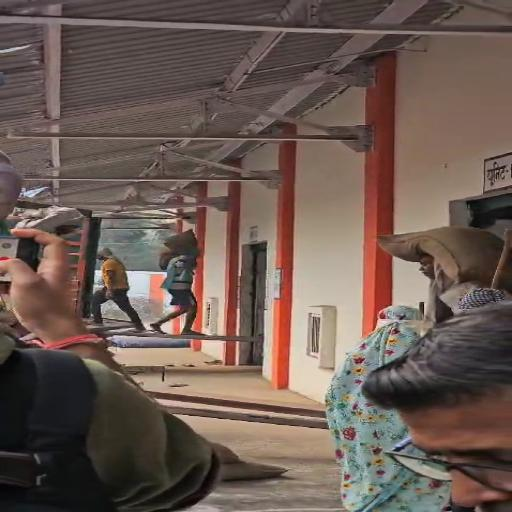bag: (371, 226, 512, 286)
